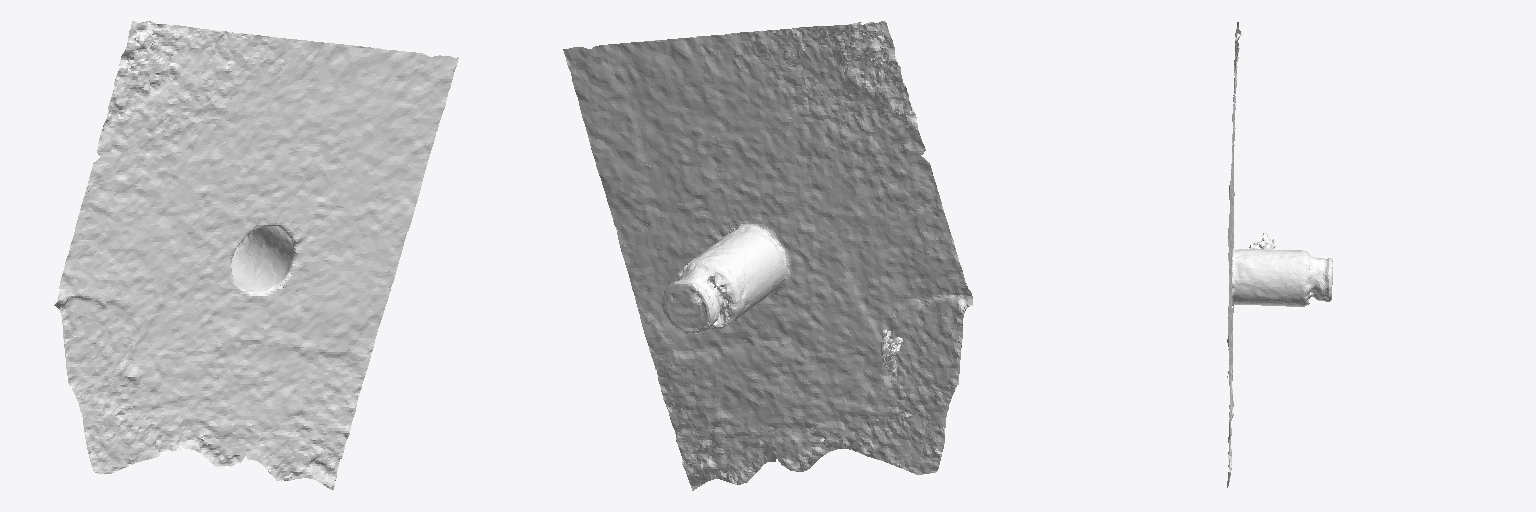
The robot description file, URDF, robot "poly.urdf":
<?xml version="1.0" ?>
<robot name="poly.urdf">
  <link name="baseLink">
    <inertial>
      <origin rpy="0 0 0" xyz="0 0 0"/>
       <mass value="0.0"/>
       <inertia ixx="0" ixy="0" ixz="0" iyy="0" iyz="0" izz="0"/>
    </inertial>
    <visual>
      <origin rpy="0 0 0" xyz="0 0 0"/>
      <geometry>
        <mesh filename="poly.obj" scale="1.0 1.0 1.0"/>
      </geometry>
      <material name="white">
       <color rgba="1 1 1 1"/>
     </material>
    </visual>
    <collision>
      <origin rpy="0 0 0" xyz="0 0 0"/>
      <geometry>
        <mesh filename="poly.obj" scale="1.0 1.0 1.0"/>
        <!-- You could also specify the collision (for the poly) with a "box" tag: -->
        <!-- <box size=".06 .06 .06"/> -->
      </geometry>
    </collision>
  </link>
</robot>
        

--- Render facts (derived) ---
Views: 3 orthographic renders of the robot side by side, from view 1: azimuth 30°, elevation 25°; view 2: azimuth 150°, elevation 25°; view 3: azimuth 270°, elevation 25°.
Model poly.urdf with 1 links and 0 joints (none), rooted at baseLink, posed every joint at zero.
Visible links, largest first — view 1: baseLink; view 2: baseLink; view 3: baseLink.
Link boxes in pixels (box(x1,y1,x2,y2)): baseLink: box(54, 21, 458, 490); baseLink: box(563, 21, 972, 490); baseLink: box(1227, 21, 1332, 487).
Size in the robot's own frame: 0.5022 by 0.149 by 0.6107 metres.
1 mesh visuals loaded from 1 distinct referenced files (1 OBJ).